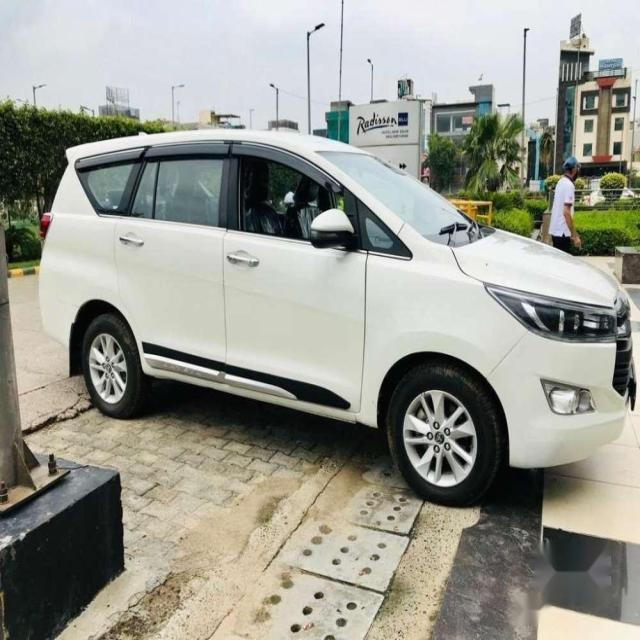light_vehicle: (37, 128, 638, 507)
